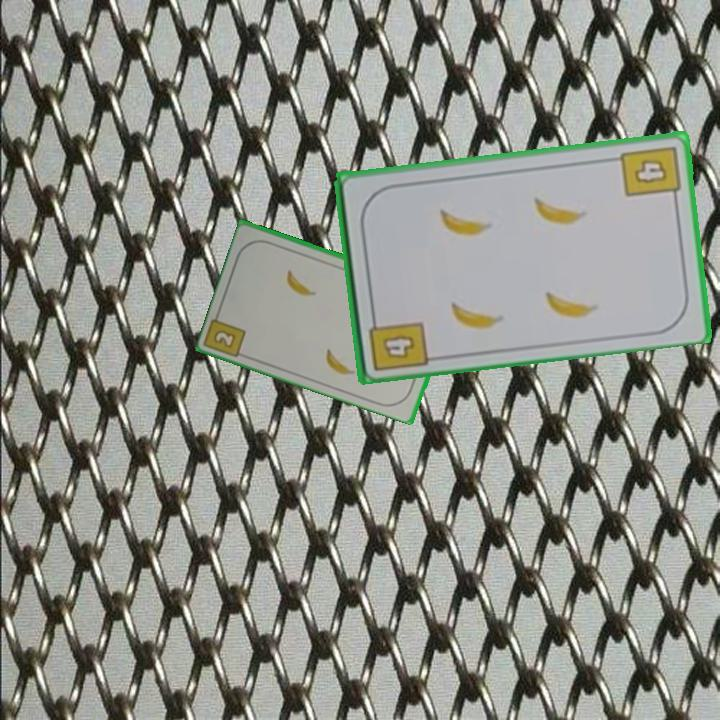2b: (210, 326, 239, 351)
4b: (364, 308, 430, 374), (617, 142, 683, 204)
